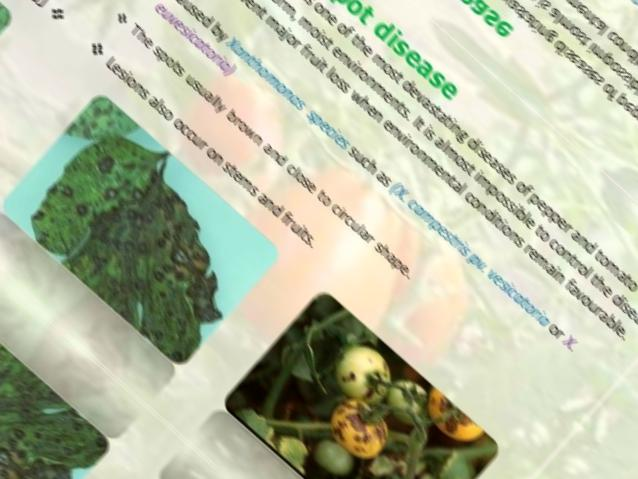Tomato leaf bacterial spot: (14, 113, 277, 369)
